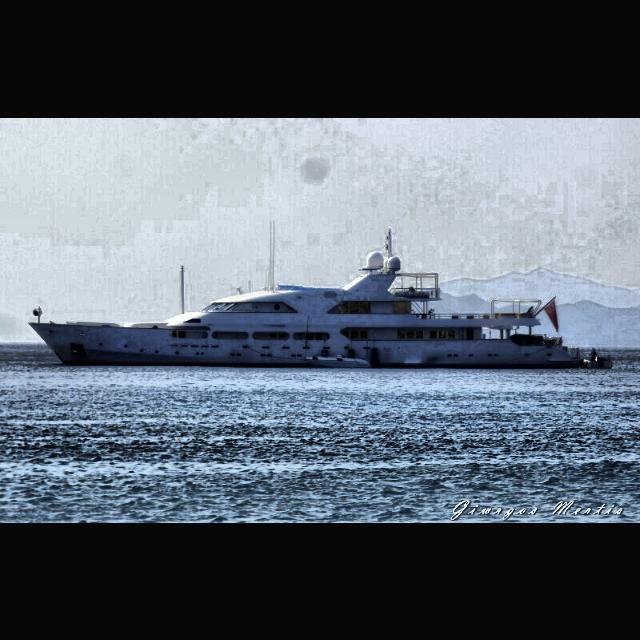yacht: (26, 248, 614, 370)
